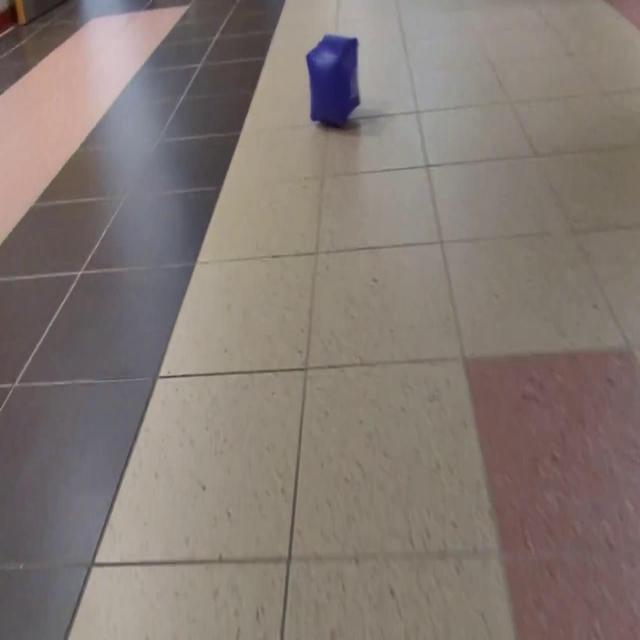frc_cube: (304, 35, 362, 127)
